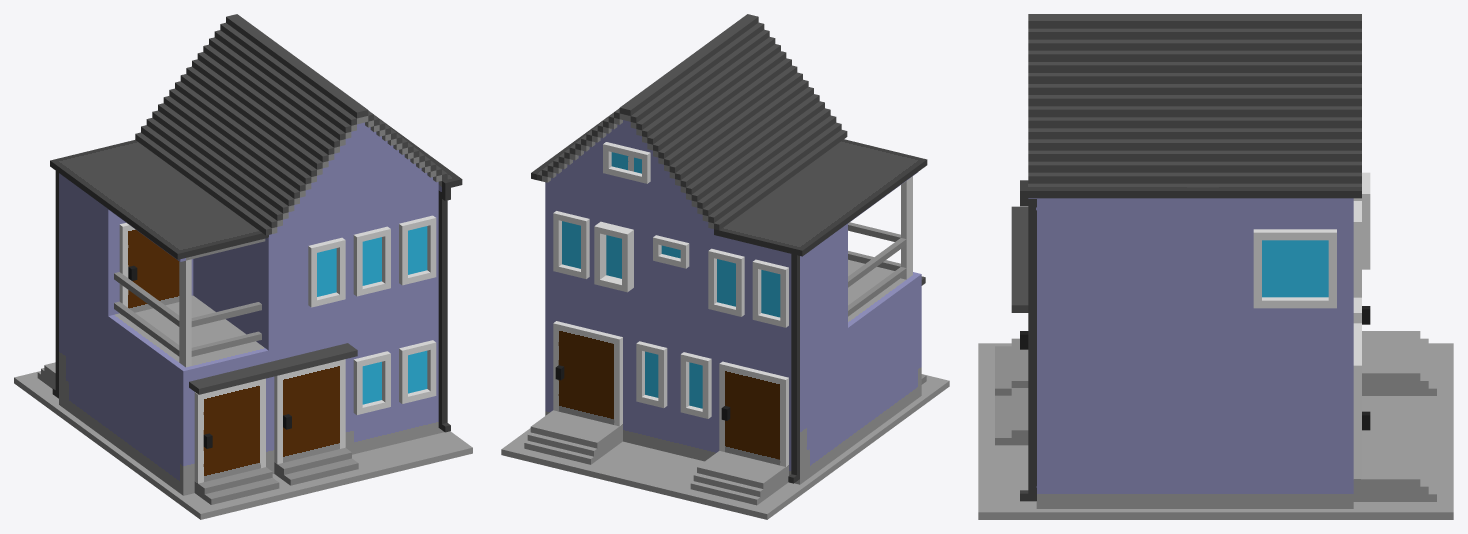
Rendered from obj_house8c.dae.
3 renders of one model, left to right at view 1: azimuth 30°, elevation 25°; view 2: azimuth 150°, elevation 25°; view 3: azimuth 270°, elevation 25°, orthographic. The views are drawn at different scales.
Parts seen in each view (by area): view 1: obj_house8c; view 2: obj_house8c; view 3: obj_house8c.
Boxes of the visible parts, box(x1,y1,x2,y2) form: obj_house8c: box(14, 14, 472, 519); obj_house8c: box(501, 14, 949, 519); obj_house8c: box(978, 14, 1453, 519).
Bounding box in the file's own units: 4.9 × 5.7 × 5.9.
Materials: 1 (1 with a texture image).
